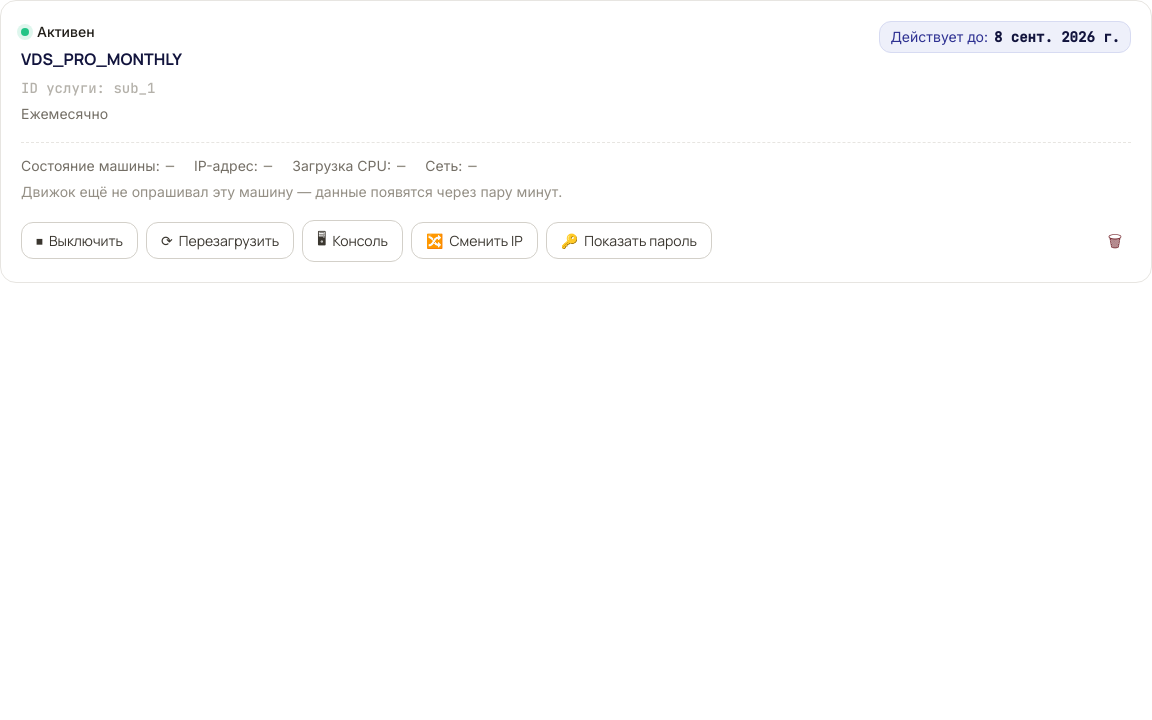
Test: SubscriptionListItem › controls › changing the address › shows which address the machine will get before anything happens
Click the button "🔀 Сменить IP" at (474, 240), box [411,222,538,259]
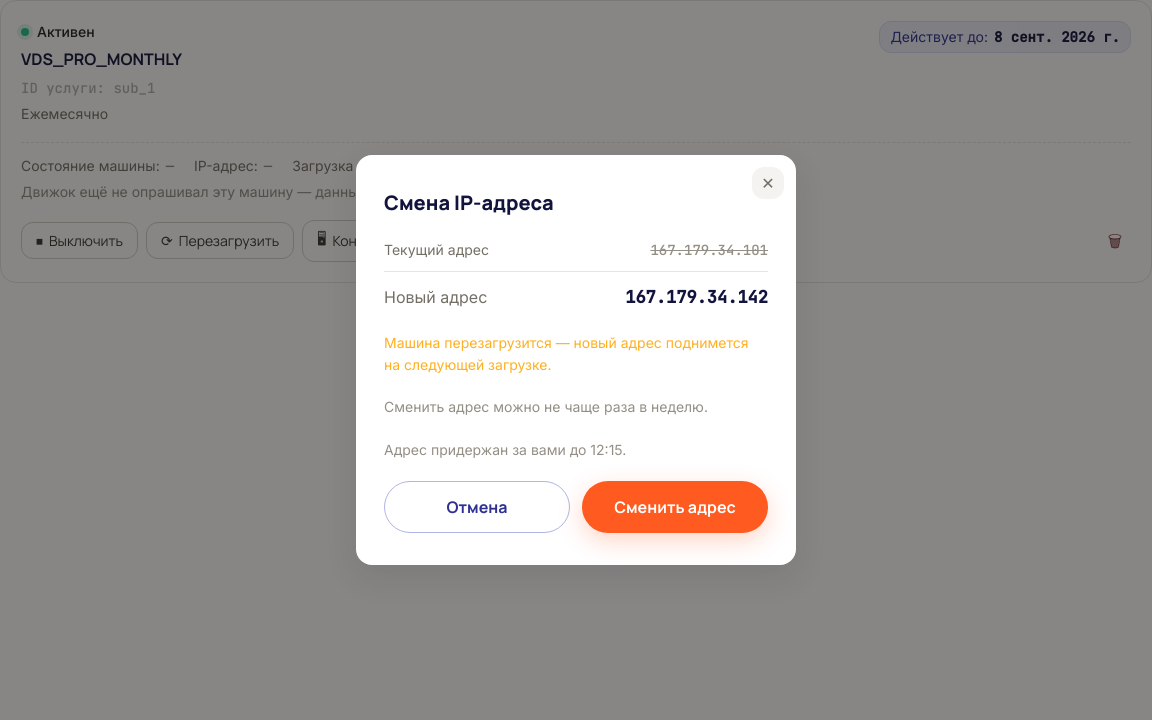
Expected: the text "167.179.34.142" is shown, [625,284,768,312]
Expected: the text "Машина перезагрузится — новый адрес поднимется на следующей загрузке." is shown, [384,332,768,376]
